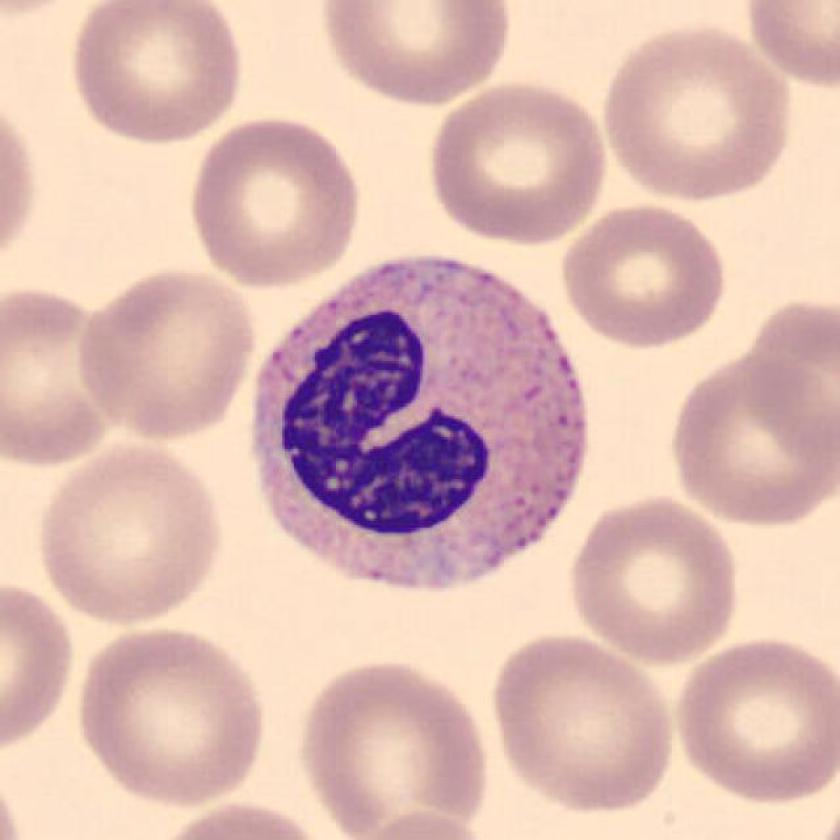neutrophil: (254, 254, 585, 588)
